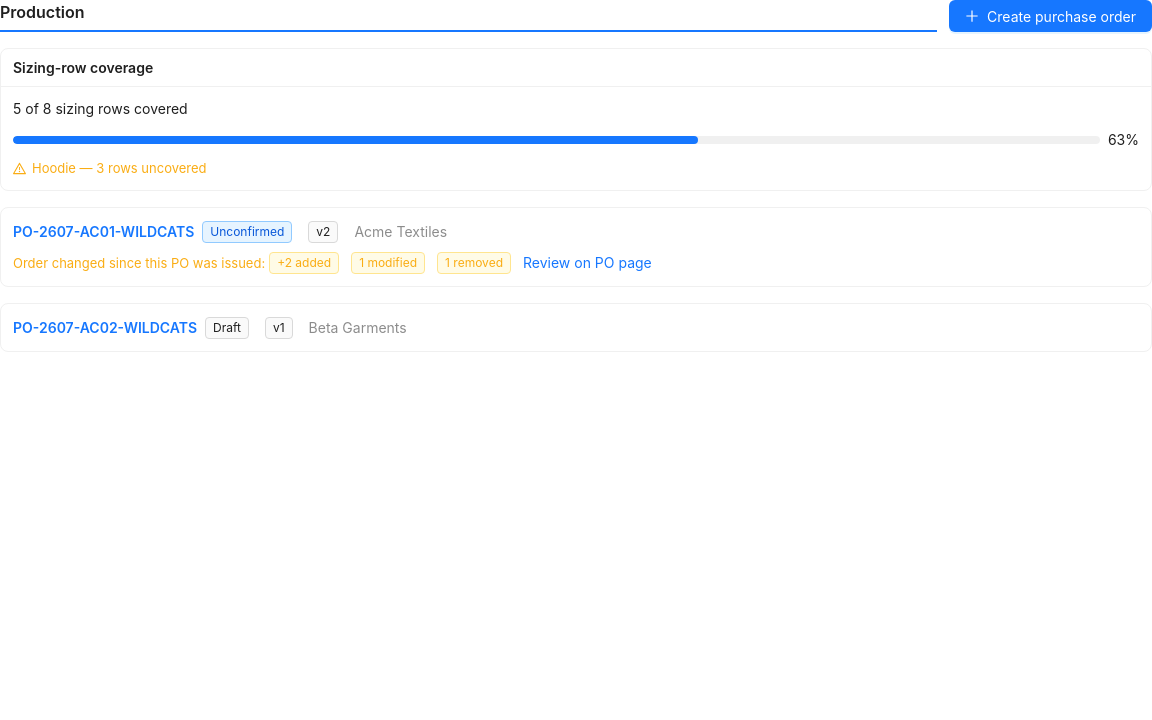
it: ProductionPanel › opens the create modal with per-garment sizing counts and covered hints
Expected: the text "5 of 8 sizing rows covered" is shown, left=13, top=100, right=188, bottom=117
Step 1. Click the button "Create purchase order" → {"x": 1051, "y": 16}, box left=949, top=0, right=1151, bottom=32
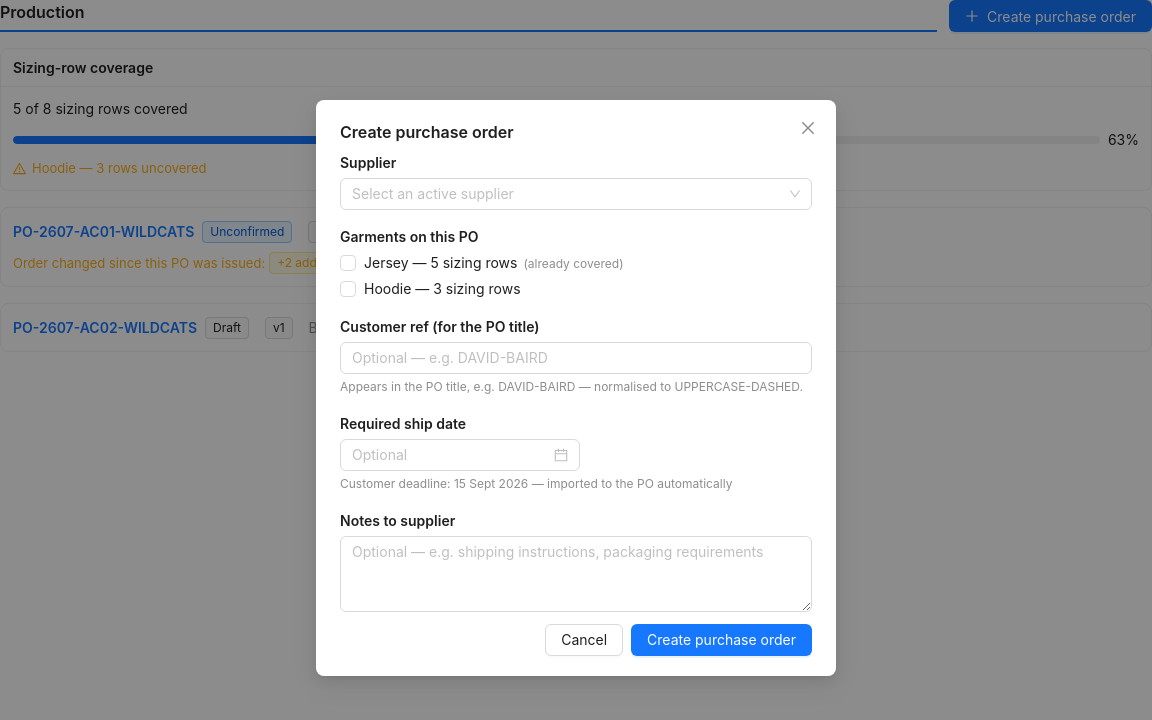
Expected: the text "Jersey — 5 sizing rows" is shown, left=356, top=252, right=632, bottom=274
Expected: the text "(already covered)" is shown, left=523, top=256, right=624, bottom=271
Expected: the text "Hoodie — 3 sizing rows" is shown, left=356, top=278, right=528, bottom=300
